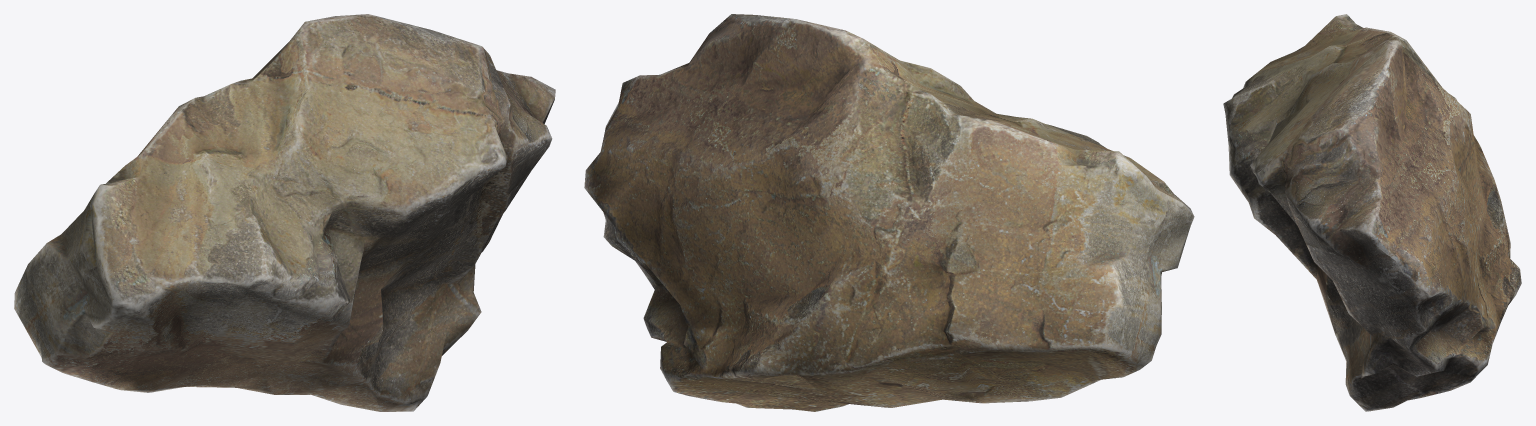
The model's file is Rock_1.fbx.
3 views of the same model, side by side, from view 1: azimuth 30°, elevation 25°; view 2: azimuth 150°, elevation 25°; view 3: azimuth 270°, elevation 25° (orthographic). The views are drawn at different scales.
Parts seen in each view (by area): view 1: Rock_01_LOD0; view 2: Rock_01_LOD0; view 3: Rock_01_LOD0.
Boxes of the visible parts, x1,y1,x2,y2 form: Rock_01_LOD0: [14, 14, 555, 411]; Rock_01_LOD0: [584, 14, 1194, 411]; Rock_01_LOD0: [1223, 14, 1521, 411].
Bounding box in the file's own units: 581 × 427 × 344.
Materials: 1 (1 with a texture image).
